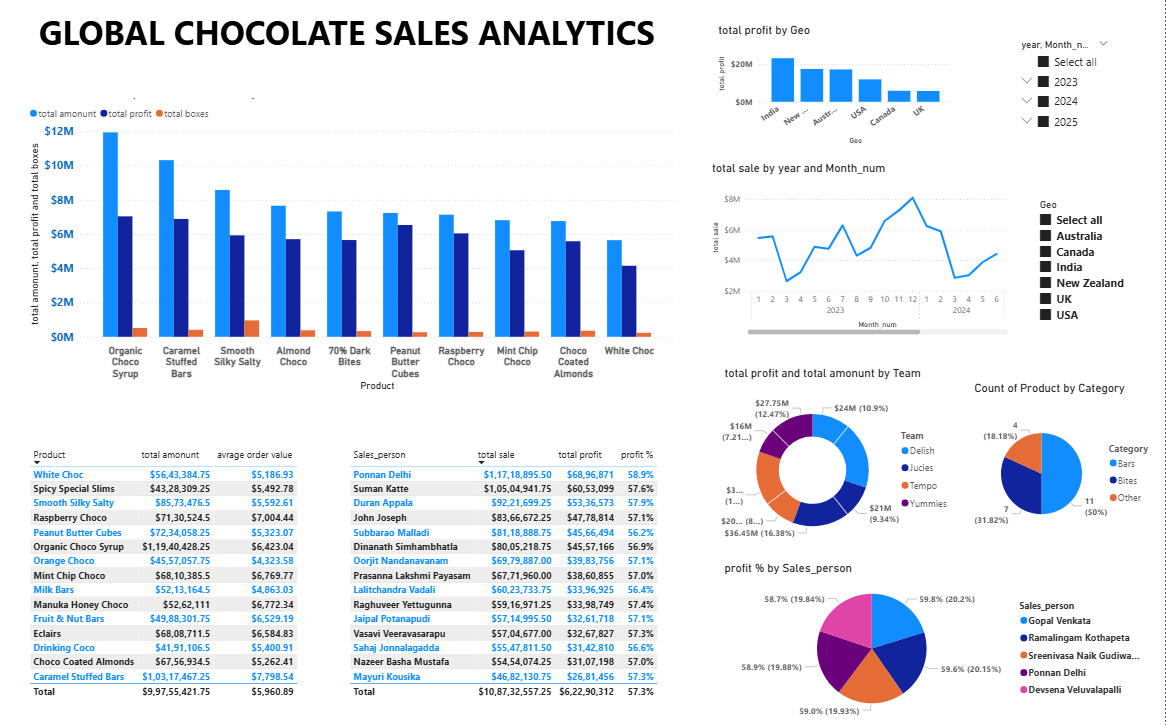

Layout of this report page (visuals, bound fields, positions):
{"tool":"powerbi","page":{"name":"Page 1","canvas":[1700,1100],"ordinal":0},"visuals":[{"type":"columnChart","fields":{"Y":["shipments.total profit"],"Category":["locations.Geo"]},"box":[1046.3,40.7,350,183.3],"z":0},{"type":"slicer","fields":{"Values":["locations.Geo"]},"box":[1505.6,290.7,172.2,196.3],"z":1000},{"type":"pieChart","fields":{"Category":["people.Sales_person"],"Y":["shipments.profit %"]},"box":[1053.7,824.1,624.1,235.2],"z":2000},{"type":"slicer","fields":{"Values":["calendar.year","calendar.Month_num"]},"box":[1478,58,152,148],"z":3000},{"type":"clusteredColumnChart","fields":{"Category":["products.Product"],"Y":["shipments.total amonunt","shipments.total profit","shipments.total boxes"]},"box":[44.4,133.3,948.1,448.1],"z":4000},{"type":"pieChart","fields":{"Category":["products.Category"],"Y":["CountNonNull(products.Product)"]},"box":[1418.5,561.1,281.5,250],"z":5000},{"type":"tableEx","fields":{"Values":["products.Product","shipments.total amonunt","shipments.avrage order value"]},"box":[44.4,651.9,425.9,422.2],"z":6000},{"type":"donutChart","fields":{"Category":["people.Team"],"Y":["shipments.total profit","shipments.total amonunt"]},"box":[1053.7,540.7,342.6,283.3],"z":7000},{"type":"tableEx","fields":{"Values":["people.Sales_person","shipments.total sale","shipments.total profit","shipments.profit %"]},"box":[509.3,651.9,527.8,474.1],"z":8000},{"type":"lineChart","fields":{"Category":["calendar.year","calendar.Month_num"],"Y":["shipments.total sale"]},"box":[1037,242.6,440.7,257.4],"z":9000},{"type":"textbox","box":[44.4,16.7,933.3,133.3],"z":10000}]}

Visuals, with their boxes on the page's 1700x1100 design canvas (x1, y1, x2, y2). These are canvas units, not pixel positions in the 1166x725 screenshot, which may show the page scaled, cropped or inside an application window:
columnChart - shipments.total profit x locations.Geo: [1046,41,1396,224]
slicer - locations.Geo: [1506,291,1678,487]
pieChart - people.Sales_person x shipments.profit %: [1054,824,1678,1059]
slicer - calendar.year x calendar.Month_num: [1478,58,1630,206]
clusteredColumnChart - products.Product x shipments.total amonunt: [44,133,992,581]
pieChart - products.Category x CountNonNull(products.Product): [1418,561,1700,811]
tableEx - products.Product x shipments.total amonunt: [44,652,470,1074]
donutChart - people.Team x shipments.total profit: [1054,541,1396,824]
tableEx - people.Sales_person x shipments.total sale: [509,652,1037,1126]
lineChart - calendar.year x calendar.Month_num: [1037,243,1478,500]
textbox: [44,17,978,150]
